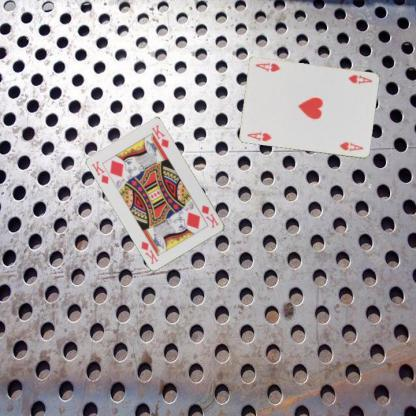Ah: (346, 72, 373, 86), (245, 128, 272, 142)
Kd: (199, 203, 221, 230), (89, 158, 110, 186)
